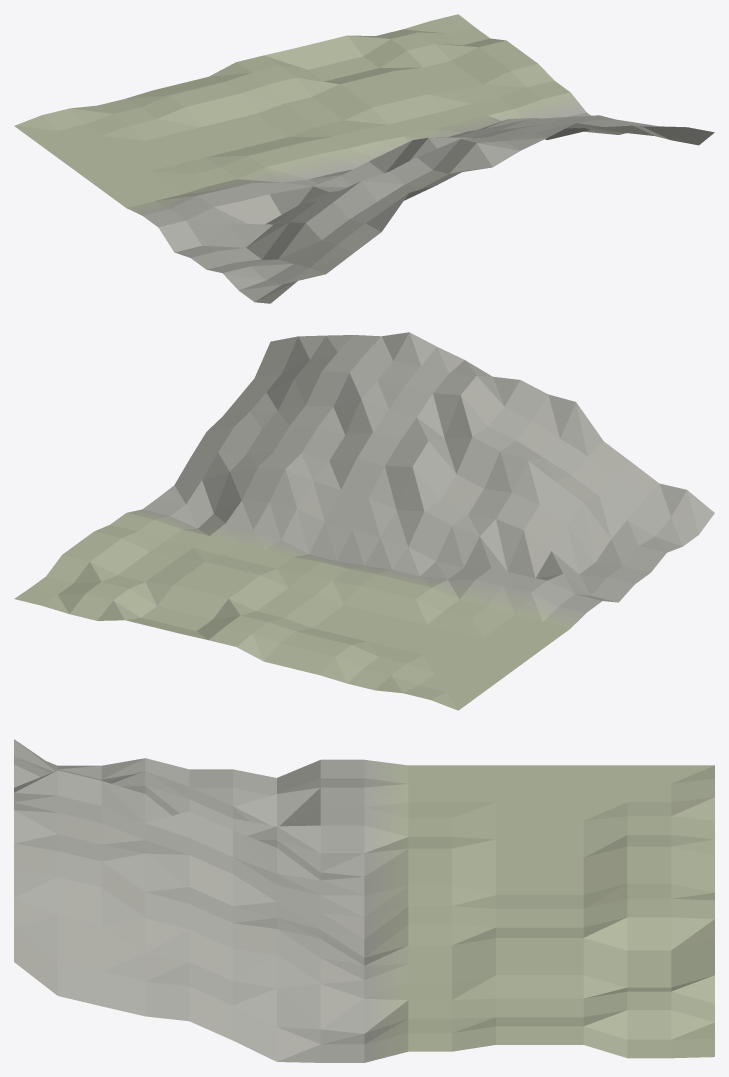
3 renders of one model, top to bottom at view 1: azimuth 30°, elevation 25°; view 2: azimuth 150°, elevation 25°; view 3: azimuth 270°, elevation 25°, orthographic. The views are drawn at different scales.
Bounding box in the file's own units: 32 × 8.63 × 32.
